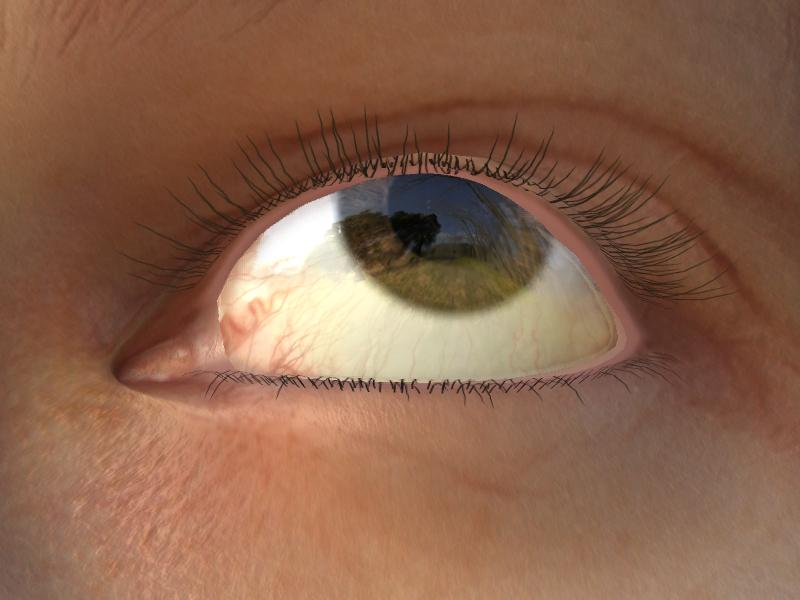eye: (337, 171, 550, 309)
